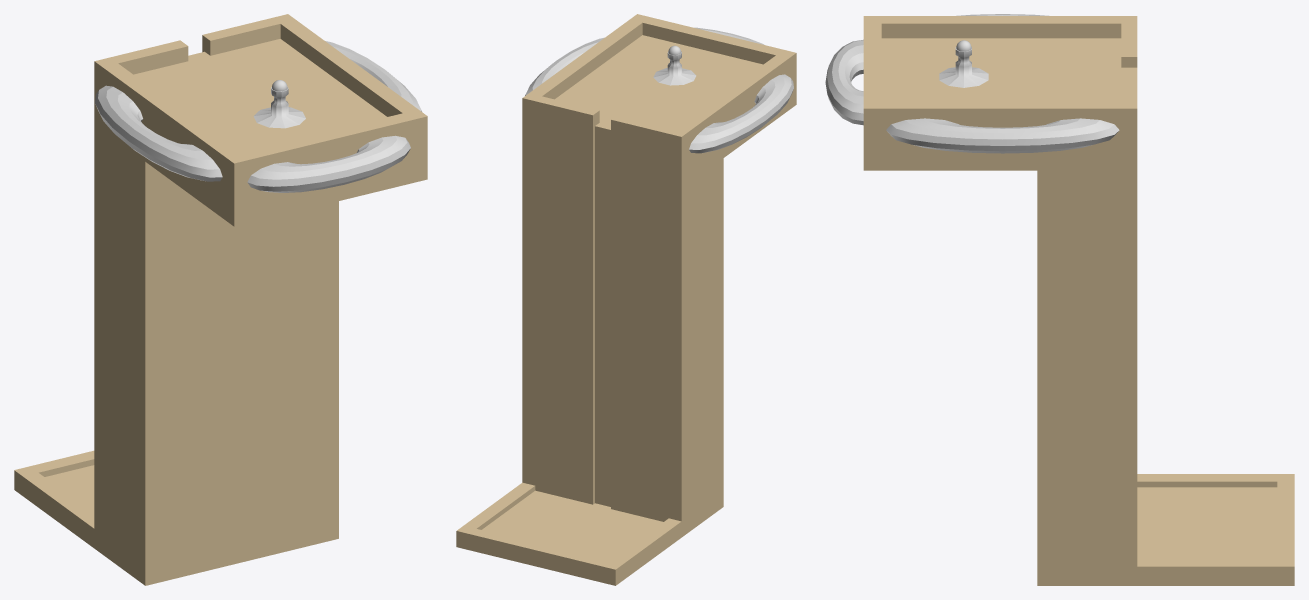
The model's file is WaterFountain.fbx.
The picture shows the model from 3 angles, left to right: view 1: azimuth 30°, elevation 25°; view 2: azimuth 150°, elevation 25°; view 3: azimuth 270°, elevation 25°; orthographic projection. The views are drawn at different scales.
Parts seen in each view (by area): view 1: WaterFountain2; view 2: WaterFountain2; view 3: WaterFountain2.
Boxes of the visible parts, x1,y1,x2,y2 form: WaterFountain2: (14,14,427,585); WaterFountain2: (456,14,796,585); WaterFountain2: (825,14,1294,585).
Bounding box in the file's own units: 6.42 × 11.98 × 10.21.
